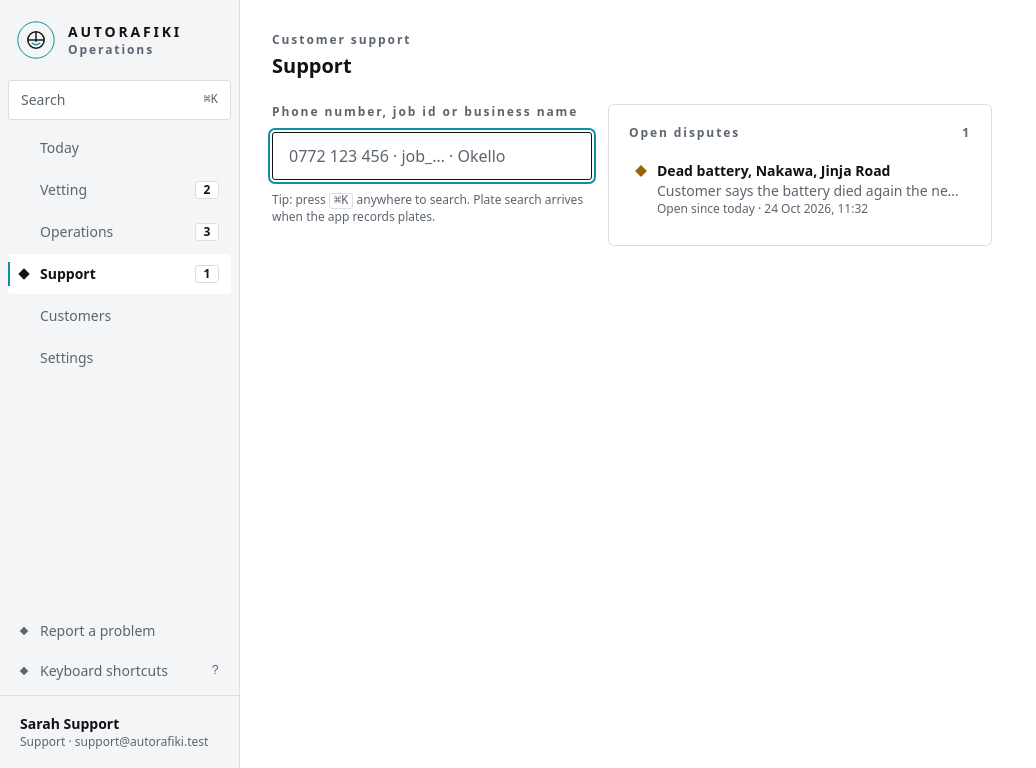
Test: support search › finds a person by phone however it is typed, and opens their history
Type "0772 123 456" into the search field labelled "Phone number, job id or business name" at (432, 156), box [272,132,592,180]
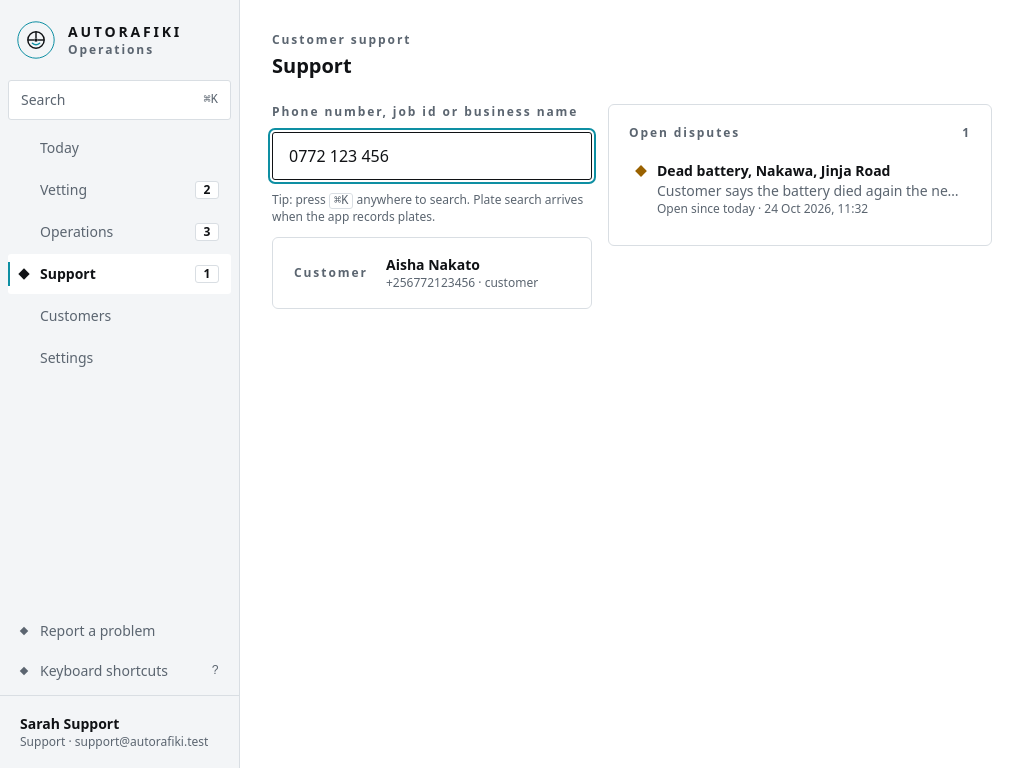
Click the option "Customer Aisha Nakato +256772123456 · customer" at (416, 273), box [294,255,538,291]
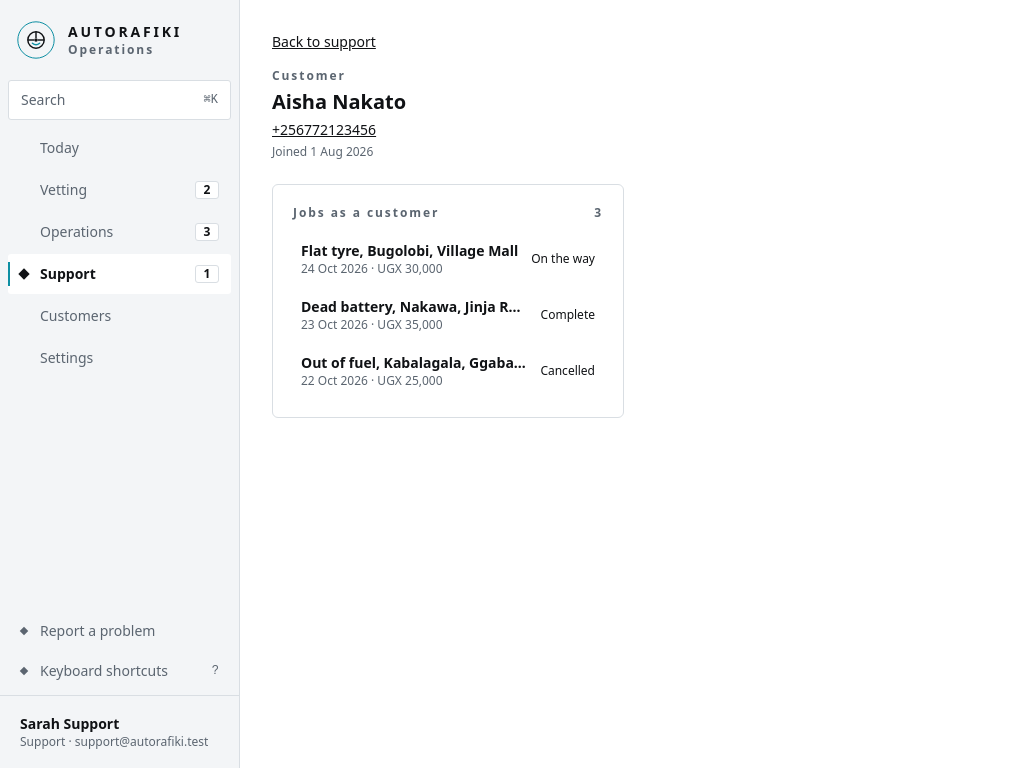
Now the heading "Aisha Nakato" is shown, box [272,88,406,115]
